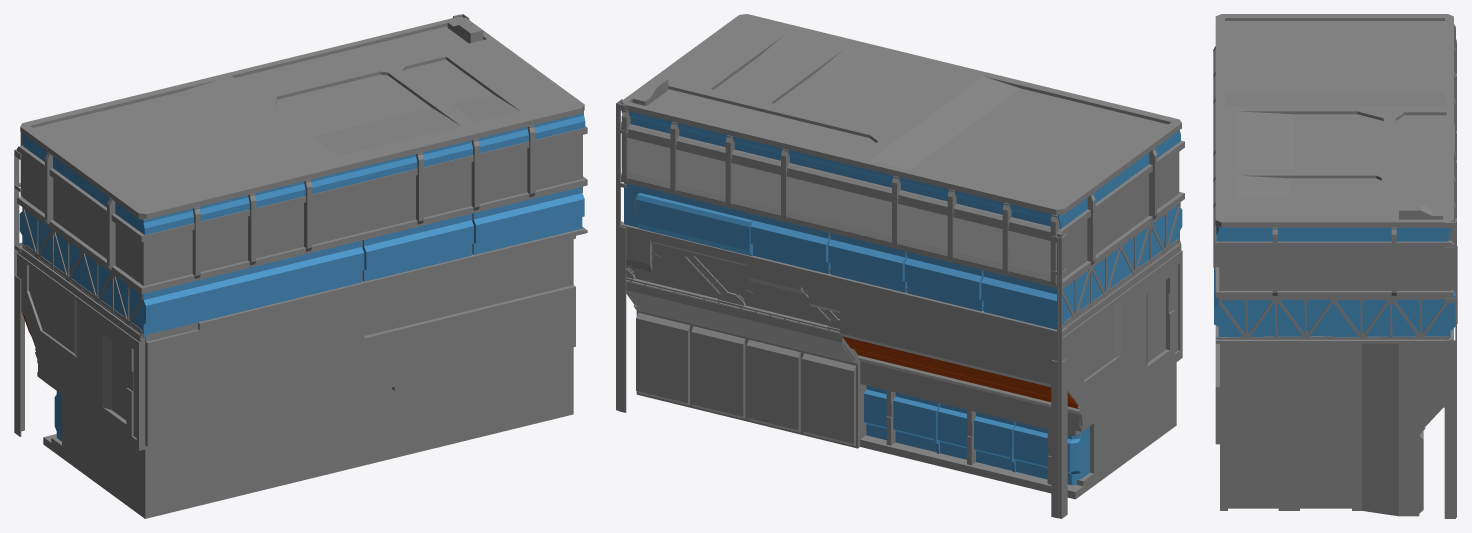
The model's file is Building_G_Bottom.fbx.
3 views of the same model, side by side, from view 1: azimuth 30°, elevation 25°; view 2: azimuth 150°, elevation 25°; view 3: azimuth 270°, elevation 25° (orthographic). The views are drawn at different scales.
Visible parts, largest first — view 1: Building_G_Bottom_Base, Glass_Blue, Building_G_Bottom_Frame_1, Building_G_Bottom_Frame; view 2: Building_G_Bottom_Base, Glass_Blue, Building_G_Bottom_Frame_1, Glass_Red, Building_G_Bottom_Frame_2, Building_G_Bottom_Frame; view 3: Building_G_Bottom_Base, Glass_Blue, Building_G_Bottom_Frame, Building_G_Bottom_Frame_1.
Part boxes in pixels (box(x1,y1,x2,y2)): Building_G_Bottom_Base: box(17, 17, 587, 518); Glass_Blue: box(19, 110, 585, 441); Building_G_Bottom_Frame_1: box(14, 14, 469, 436); Building_G_Bottom_Frame: box(22, 186, 582, 337); Building_G_Bottom_Base: box(621, 14, 1184, 499); Glass_Blue: box(621, 111, 1182, 485); Building_G_Bottom_Frame_1: box(616, 99, 1067, 518); Glass_Red: box(842, 336, 1078, 408); Building_G_Bottom_Frame_2: box(626, 239, 840, 334); Building_G_Bottom_Frame: box(1062, 202, 1180, 328); Building_G_Bottom_Base: box(1213, 14, 1455, 516); Glass_Blue: box(1214, 226, 1457, 338); Building_G_Bottom_Frame: box(1219, 298, 1448, 339); Building_G_Bottom_Frame_1: box(1444, 39, 1456, 518).
Size of the model in its own units: 15639 by 10527 by 7680.
